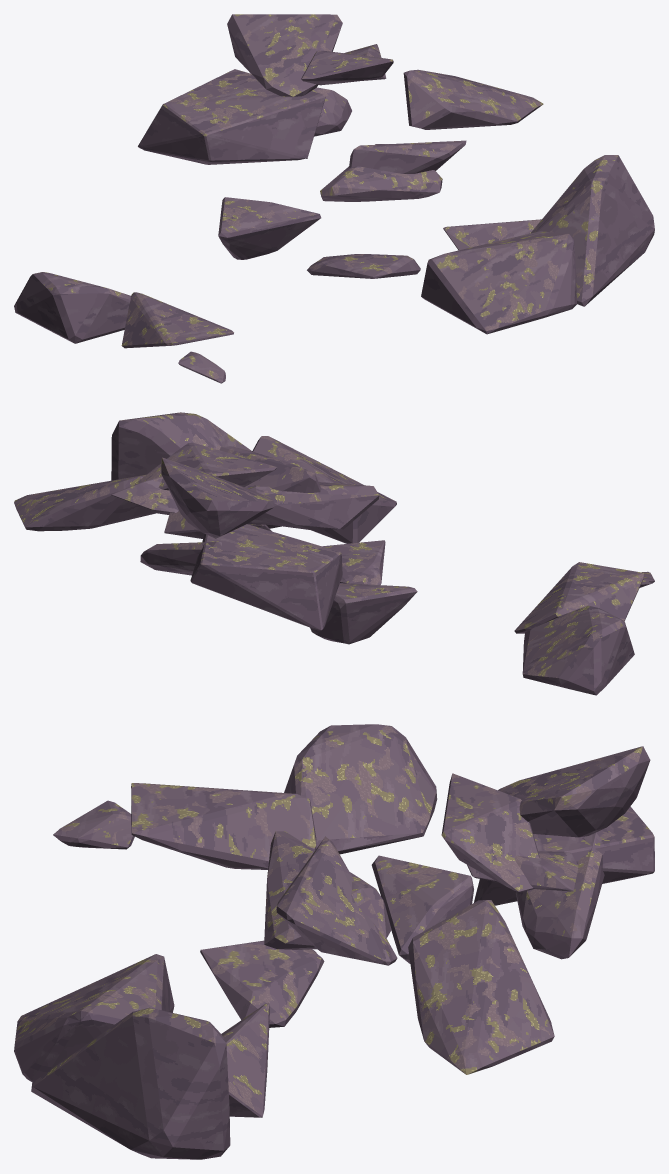
The model's file is P02_Rubble_A.fbx.
3 renders of one model, top to bottom at view 1: azimuth 30°, elevation 25°; view 2: azimuth 150°, elevation 25°; view 3: azimuth 270°, elevation 25°, orthographic. The views are drawn at different scales.
Visible parts, largest first — view 1: P02A_11, P02A_8, P02A_1, P02A_16, P02A_9, P02A_4, P02A_3, P02A_2, P02A_13, P02A_12, P02A_0, P02A_14 (+3 smaller); view 2: P02A_11, P02A_4, P02A_1, P02A_16, P02A_9, P02A_2, P02A_13, P02A_3, P02A_8, P02A_14, P02A_12, P02A_0 (+3 smaller); view 3: P02A_1, P02A_9, P02A_4, P02A_2, P02A_8, P02A_16, P02A_12, P02A_14, P02A_0, P02A_3, P02A_10, P02A_11 (+4 smaller).
Part boxes in pixels (left/top/right/bottom): P02A_11: left=138, top=69, right=325, bottom=164; P02A_8: left=421, top=231, right=576, bottom=334; P02A_1: left=530, top=155, right=654, bottom=306; P02A_16: left=227, top=14, right=342, bottom=96; P02A_9: left=403, top=69, right=543, bottom=129; P02A_4: left=14, top=272, right=130, bottom=343; P02A_3: left=218, top=197, right=321, bottom=259; P02A_2: left=121, top=292, right=233, bottom=348; P02A_13: left=320, top=144, right=442, bottom=201; P02A_12: left=349, top=140, right=466, bottom=173; P02A_0: left=307, top=254, right=420, bottom=278; P02A_14: left=301, top=50, right=393, bottom=85; P02A_11: left=190, top=524, right=342, bottom=631; P02A_4: left=522, top=605, right=634, bottom=695; P02A_1: left=111, top=412, right=251, bottom=514; P02A_16: left=161, top=457, right=274, bottom=538; P02A_9: left=14, top=474, right=163, bottom=531; P02A_2: left=514, top=562, right=643, bottom=633; P02A_13: left=247, top=482, right=379, bottom=530; P02A_3: left=310, top=583, right=417, bottom=644; P02A_8: left=252, top=436, right=396, bottom=543; P02A_14: left=135, top=442, right=276, bottom=490; P02A_12: left=219, top=446, right=321, bottom=524; P02A_0: left=322, top=540, right=385, bottom=584; P02A_1: left=31, top=1007, right=230, bottom=1159; P02A_9: left=408, top=900, right=554, bottom=1074; P02A_4: left=284, top=724, right=437, bottom=854; P02A_2: left=131, top=783, right=316, bottom=869; P02A_8: left=14, top=954, right=174, bottom=1082; P02A_16: left=498, top=746, right=650, bottom=837; P02A_12: left=276, top=836, right=397, bottom=965; P02A_14: left=441, top=773, right=539, bottom=892; P02A_0: left=200, top=940, right=324, bottom=1027; P02A_3: left=371, top=855, right=473, bottom=963; P02A_10: left=516, top=833, right=604, bottom=959; P02A_11: left=474, top=806, right=654, bottom=905.
Size of the model in its own units: 1.33 by 0.3976 by 0.9242.
